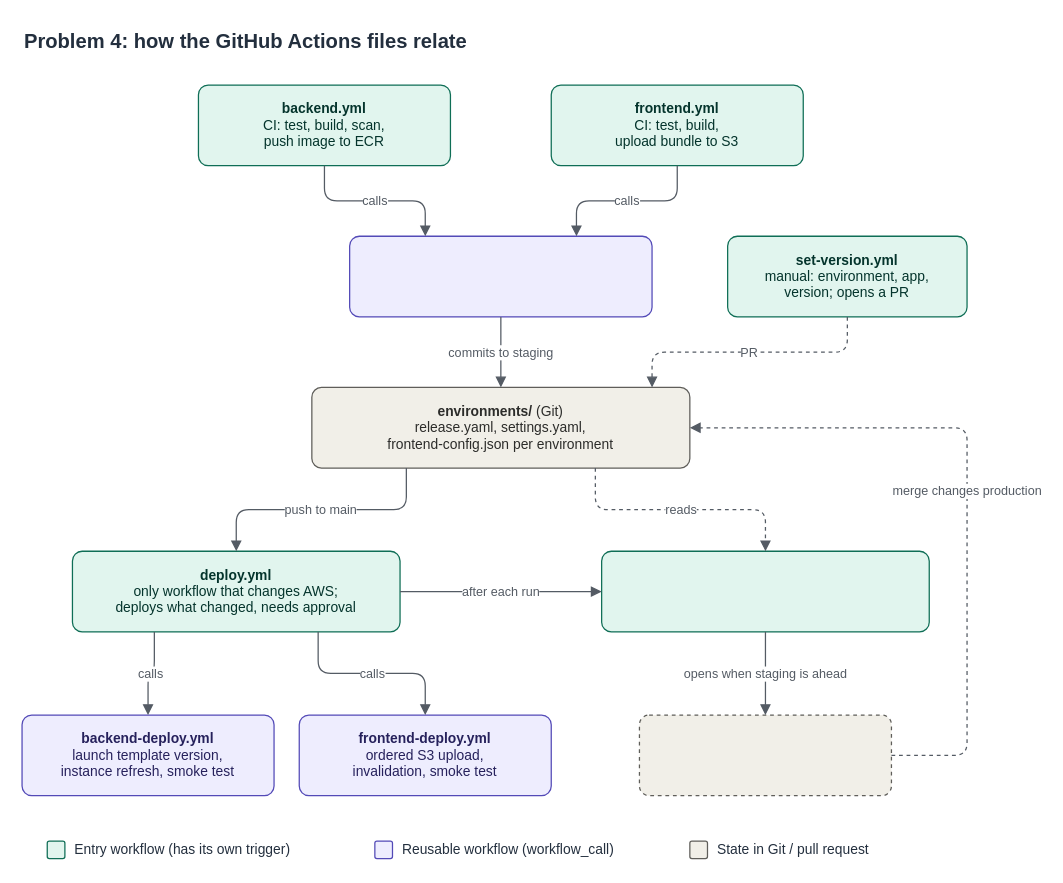
The diagram is 1063 pixels wide and 883 high, and some of its shapes have lost their labels. The centre of each missing label's shape, as x and y in pixels:
Promotion PR copies staging versions to production; code owner review: point 764,755
reconcile.yml read-only: Git vs live, hourly; drift to Slack, validates PRs: point 764,591
release-staging.yml release bot commits the new SHA to staging (no AWS): point 500,276
